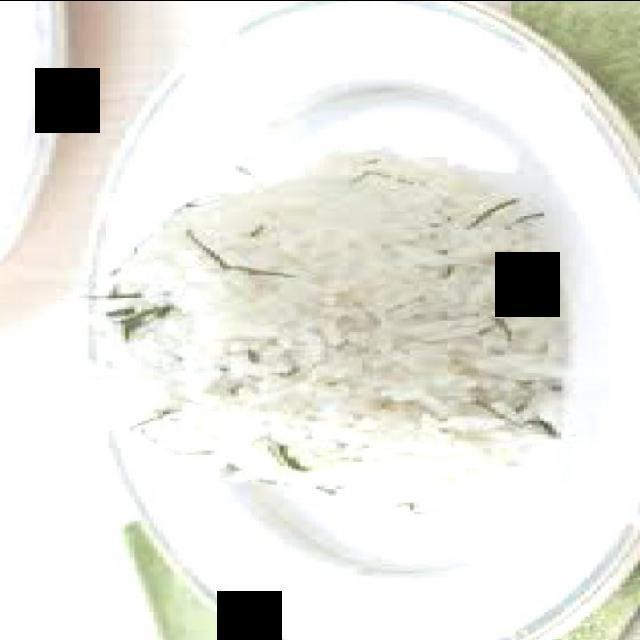Chicken -Chicken Inasal-: (144, 157, 562, 444)
